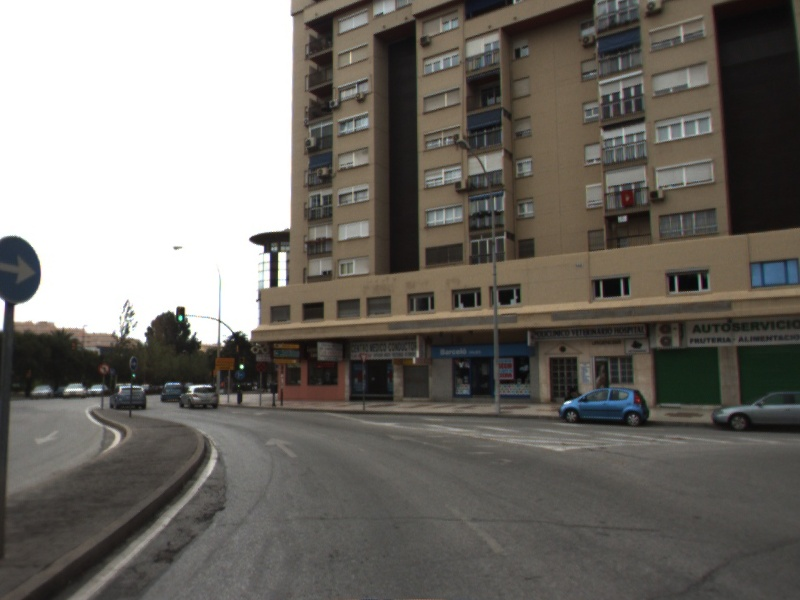STRAIGHT: (384, 431, 453, 451), (263, 435, 300, 459)
